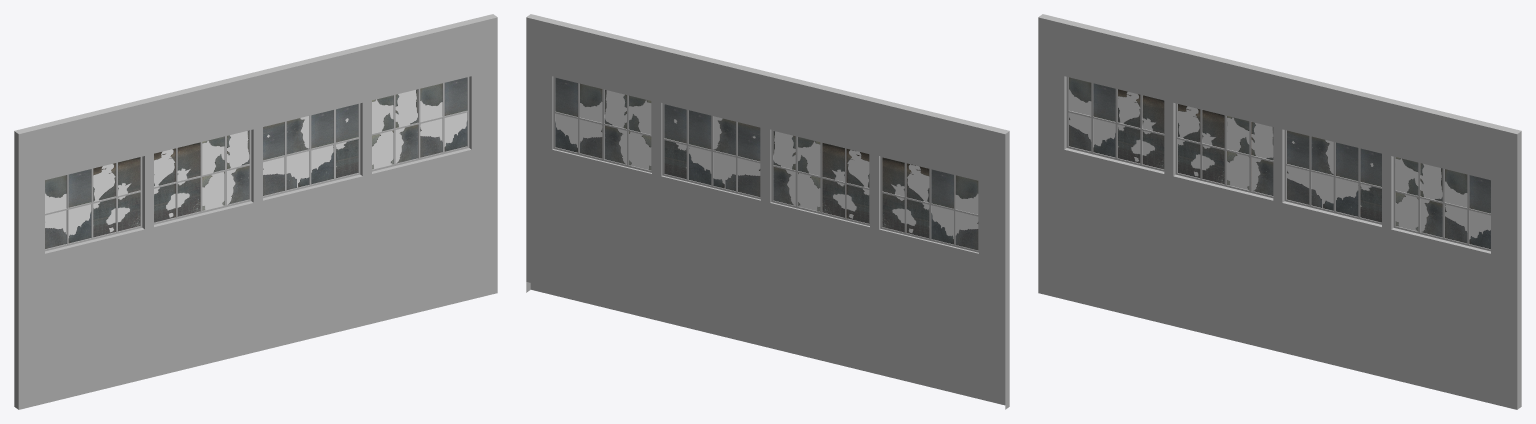
The model's file is Factory1Wall02.FBX.
3 renders of one model, left to right at view 1: azimuth 30°, elevation 25°; view 2: azimuth 150°, elevation 25°; view 3: azimuth 330°, elevation 25°, orthographic.
Parts seen in each view (by area): view 1: Factory1Wall02, Factory1Wall02Glass; view 2: Factory1Wall02, Factory1Wall02Glass; view 3: Factory1Wall02, Factory1Wall02Glass.
Part boxes in pixels (x1,y1,x2,y2): Factory1Wall02: (14, 14, 497, 409); Factory1Wall02Glass: (45, 77, 467, 248); Factory1Wall02: (526, 14, 1009, 409); Factory1Wall02Glass: (555, 77, 978, 250); Factory1Wall02: (1038, 14, 1521, 409); Factory1Wall02Glass: (1069, 77, 1490, 249).
Size of the model in its own units: 1800 by 990 by 30.
